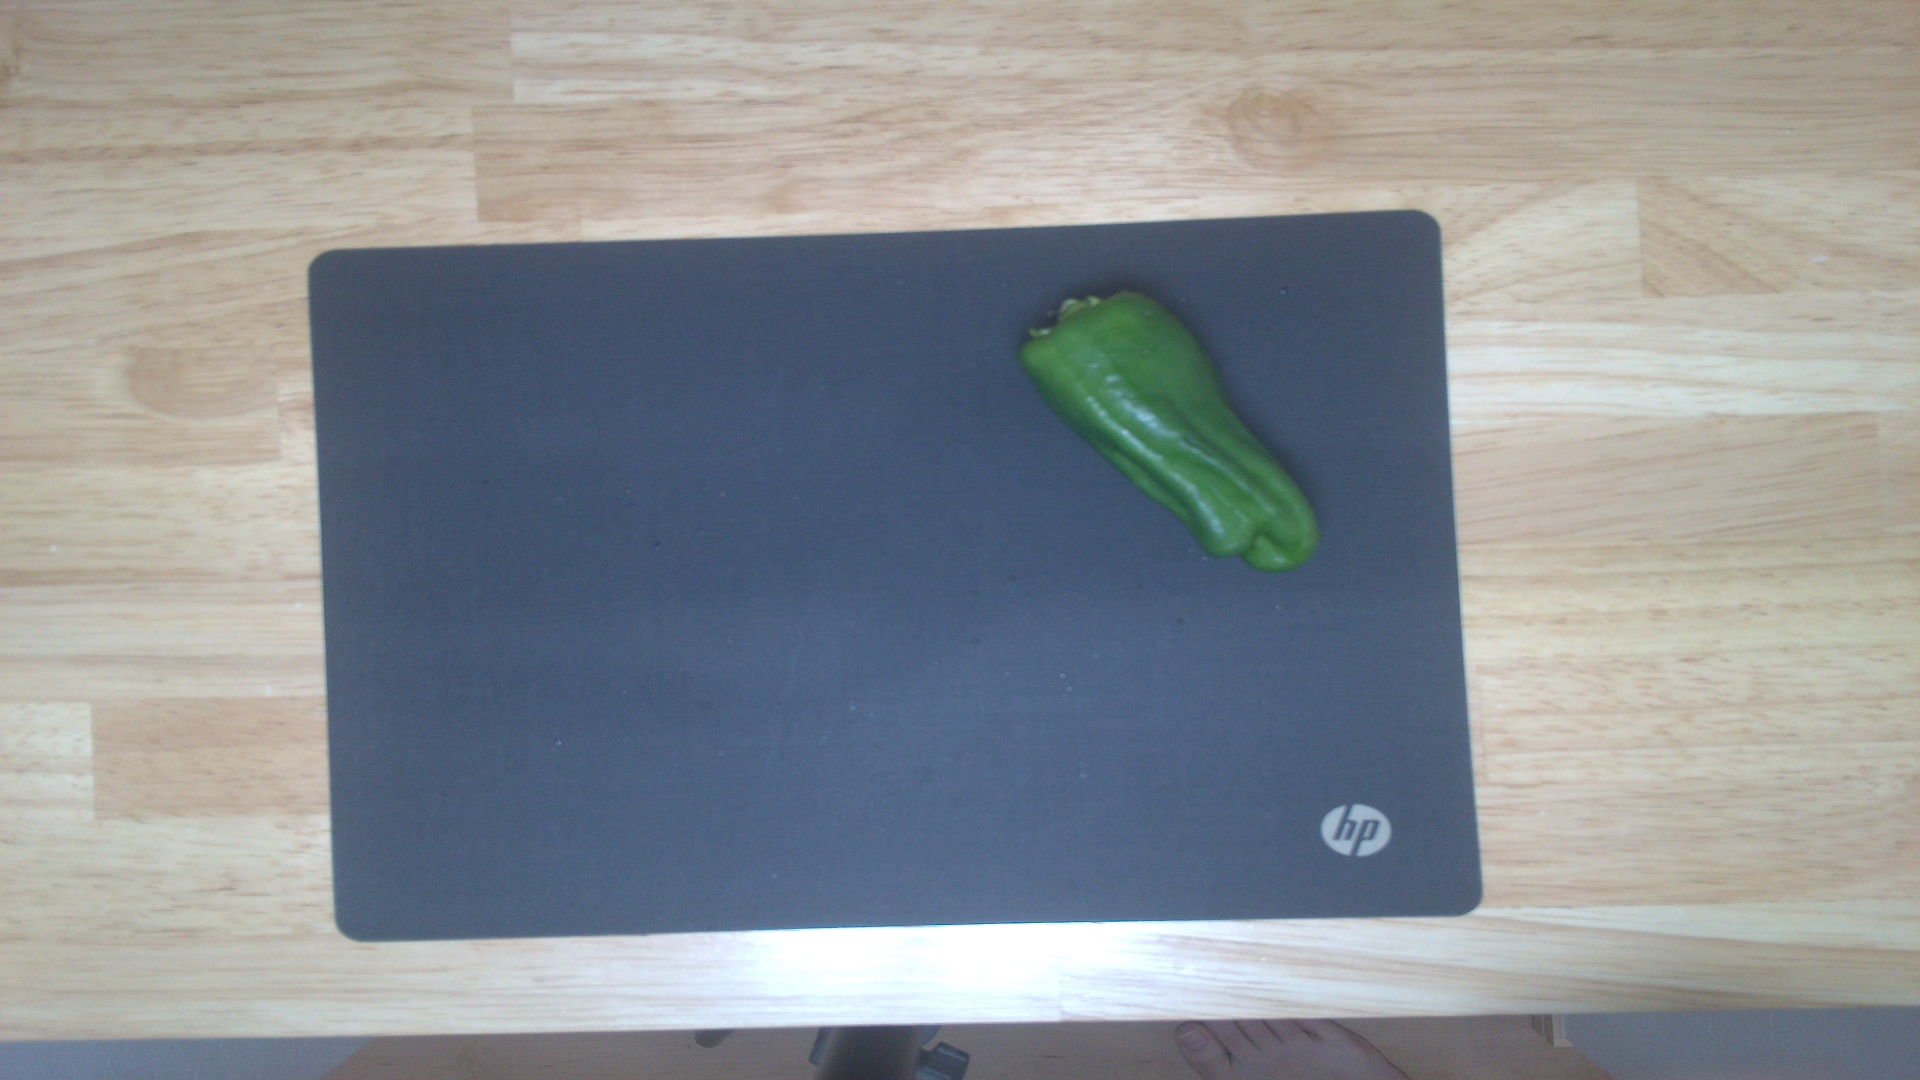Piman: (1023, 284, 1321, 578)
